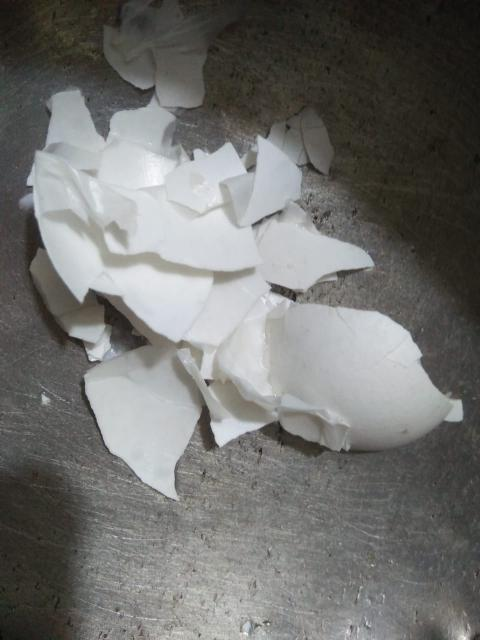Roto: (23, 87, 463, 500), (101, 0, 244, 109)
